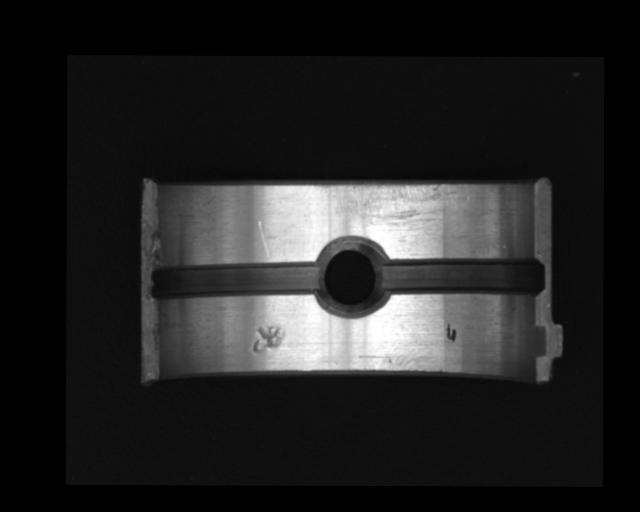blot: (445, 321, 456, 344)
bruise: (251, 324, 286, 355)
gap: (150, 260, 322, 302), (377, 258, 544, 296)
hole: (313, 237, 390, 317)
nick: (257, 220, 271, 261)
scratch: (314, 181, 472, 226)
